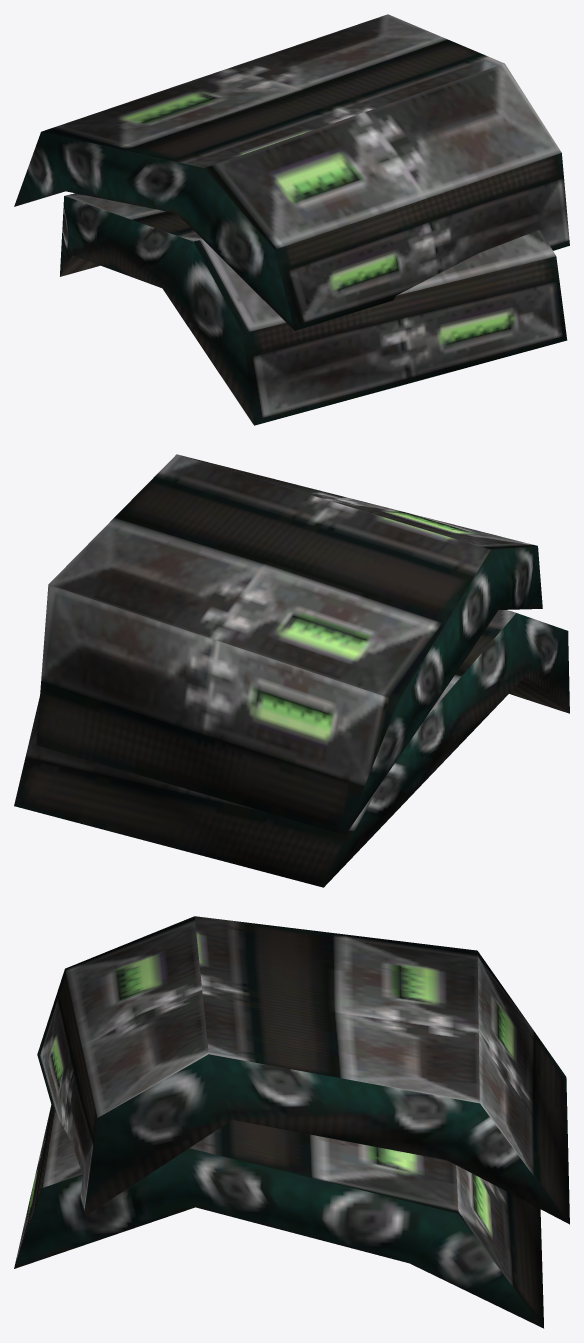
The model's file is ShoulderPads5__VTX.glb.
The picture shows the model from 3 angles, top to bottom: view 1: azimuth 30°, elevation 25°; view 2: azimuth 150°, elevation 25°; view 3: azimuth 270°, elevation 25°; orthographic projection. The views are drawn at different scales.
Visible parts, largest first — view 1: ShoulderPads5; view 2: ShoulderPads5; view 3: ShoulderPads5.
Boxes of the visible parts, bbox=[...] form: ShoulderPads5: bbox=[14, 14, 569, 425]; ShoulderPads5: bbox=[14, 454, 569, 887]; ShoulderPads5: bbox=[14, 916, 569, 1328].
Size of the model in its own units: 8.51 by 5.51 by 10.
Materials: 1 (1 with a texture image).
